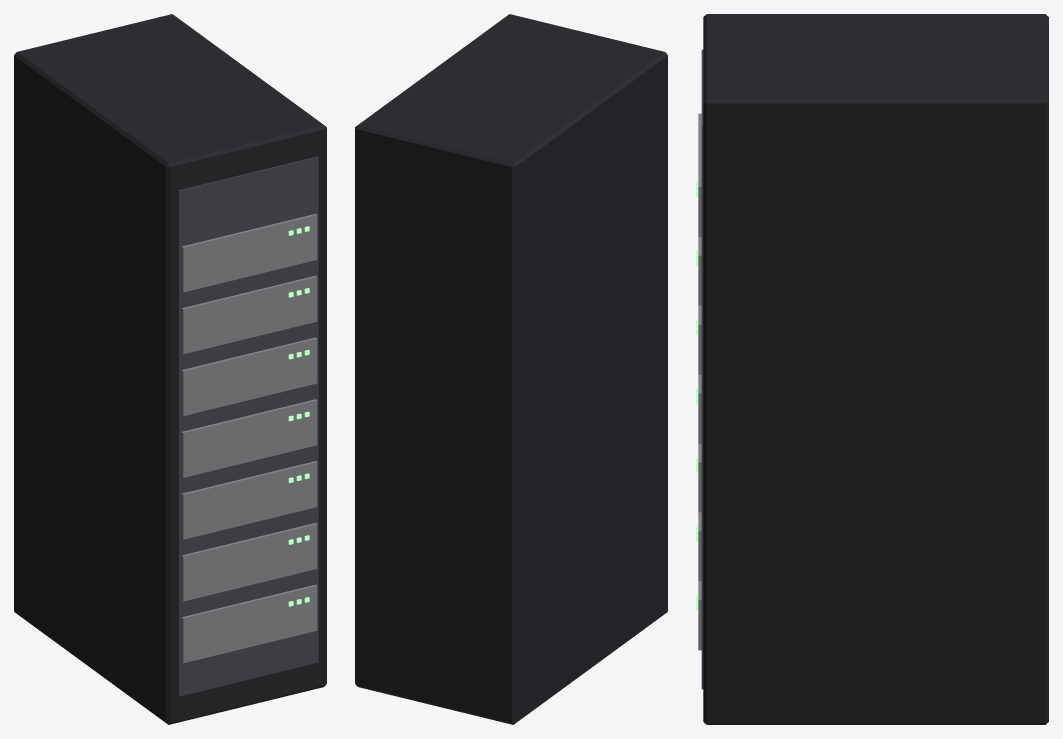
The model's file is rack_server.glb.
3 renders of one model, left to right at view 1: azimuth 30°, elevation 25°; view 2: azimuth 150°, elevation 25°; view 3: azimuth 270°, elevation 25°, orthographic. The views are drawn at different scales.
Visible parts, largest first — view 1: rack_server, rack_server_leds; view 2: rack_server; view 3: rack_server.
Boxes of the visible parts, x1=… form: rack_server: x1=14, y1=14, x2=326, y2=724; rack_server_leds: x1=288, y1=226, x2=309, y2=606; rack_server: x1=355, y1=14, x2=667, y2=724; rack_server: x1=698, y1=14, x2=1048, y2=724.
Size of the model in its own units: 0.6 by 2 by 1.02.
Materials: 2 (1 with a texture image).
